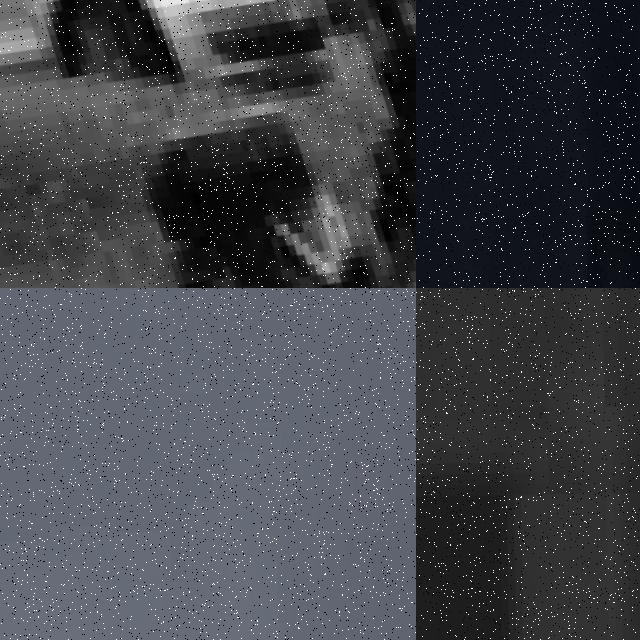drone: (0, 0, 416, 288)
